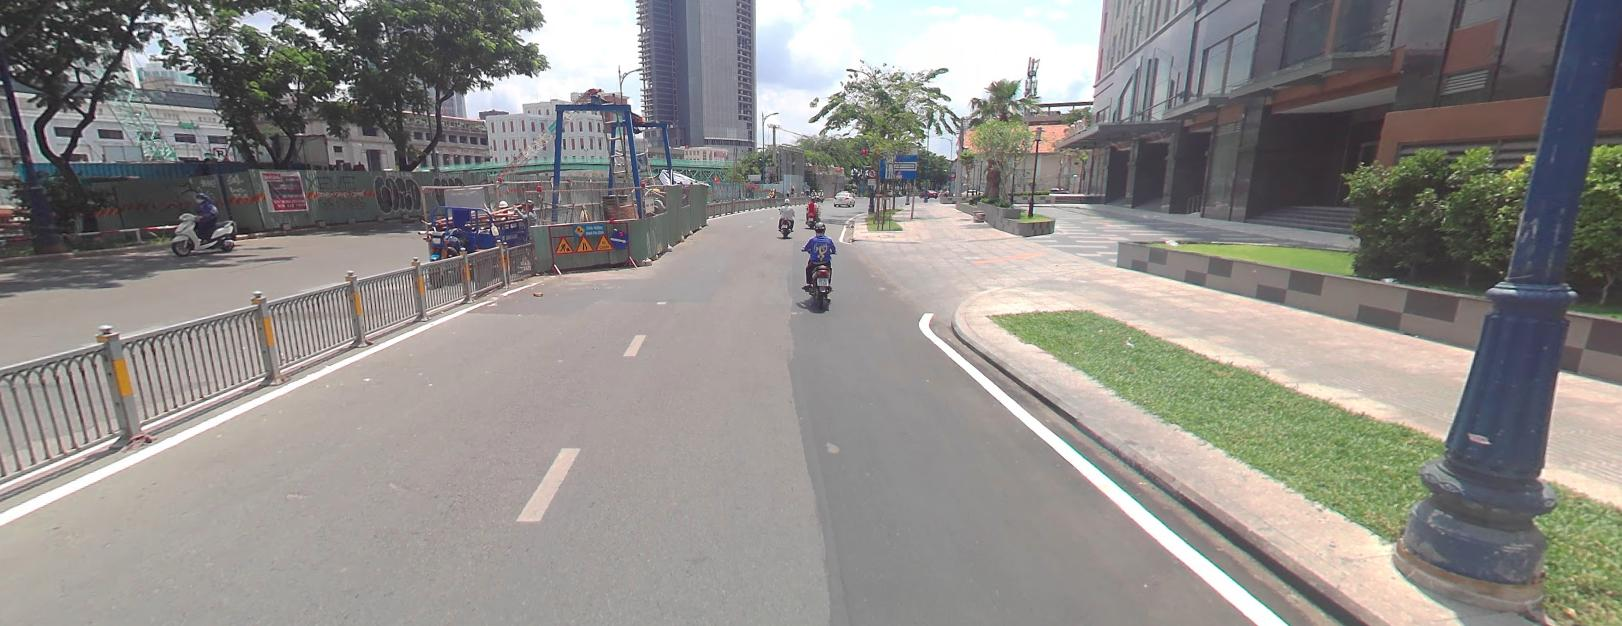Cam re: (868, 167, 876, 176)
Nguy hiem: (554, 234, 573, 251), (575, 233, 594, 250), (596, 232, 613, 248)
